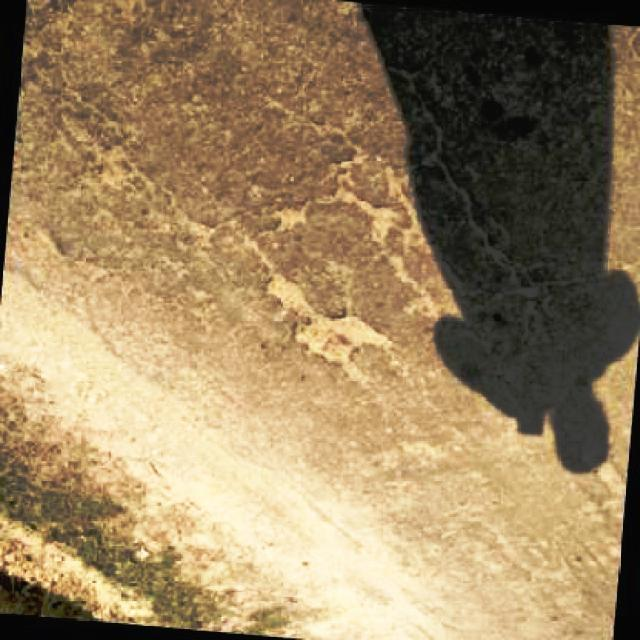pothole: (244, 274, 413, 389), (334, 152, 346, 175)
